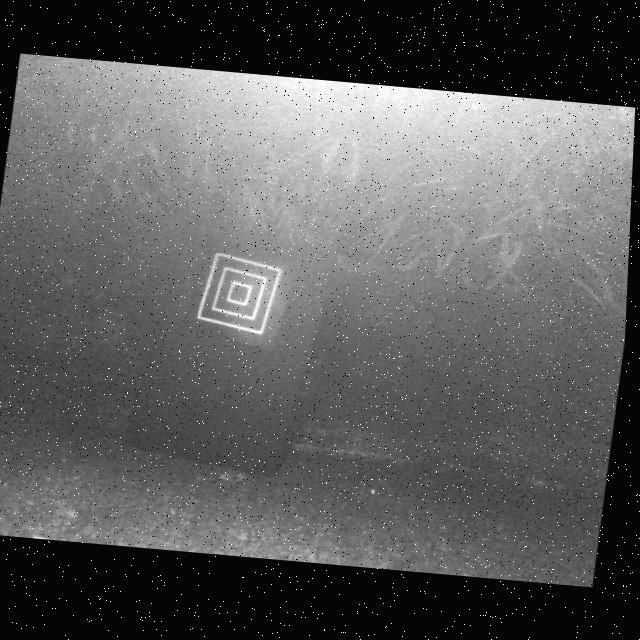BULLSEYE: (200, 254, 284, 335)
